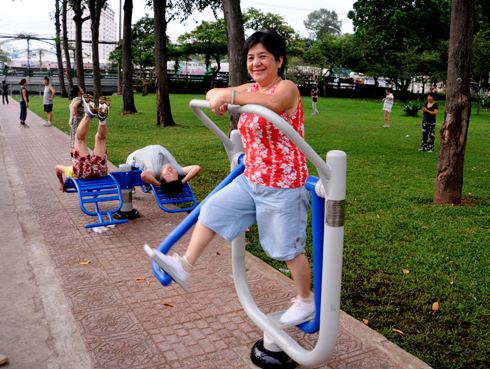person: (140, 24, 322, 332), (50, 92, 115, 198), (116, 139, 206, 202), (416, 90, 443, 158), (67, 81, 88, 162), (41, 72, 59, 131), (16, 77, 35, 132), (380, 83, 398, 133)
